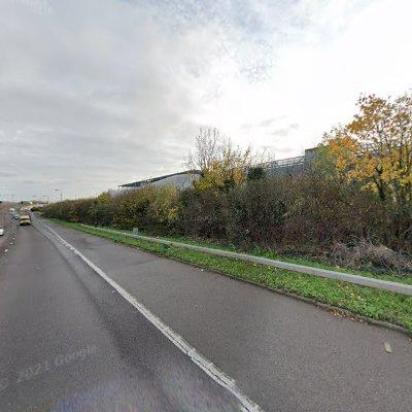moving-car: (0, 224, 7, 236), (11, 212, 20, 220)
moving-light-truck: (17, 213, 33, 227)
